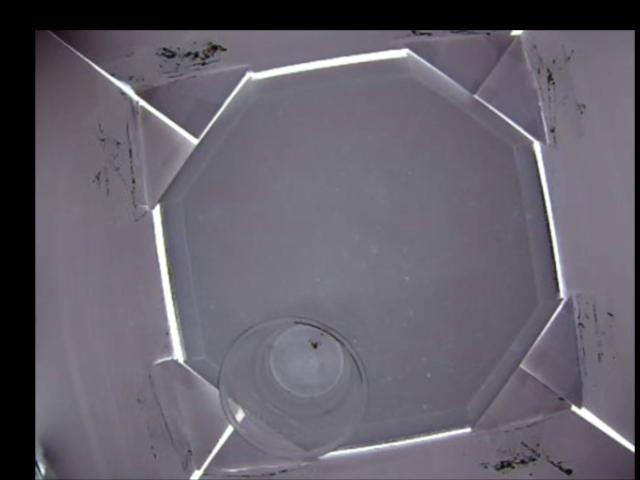Cup: (217, 313, 372, 459)
